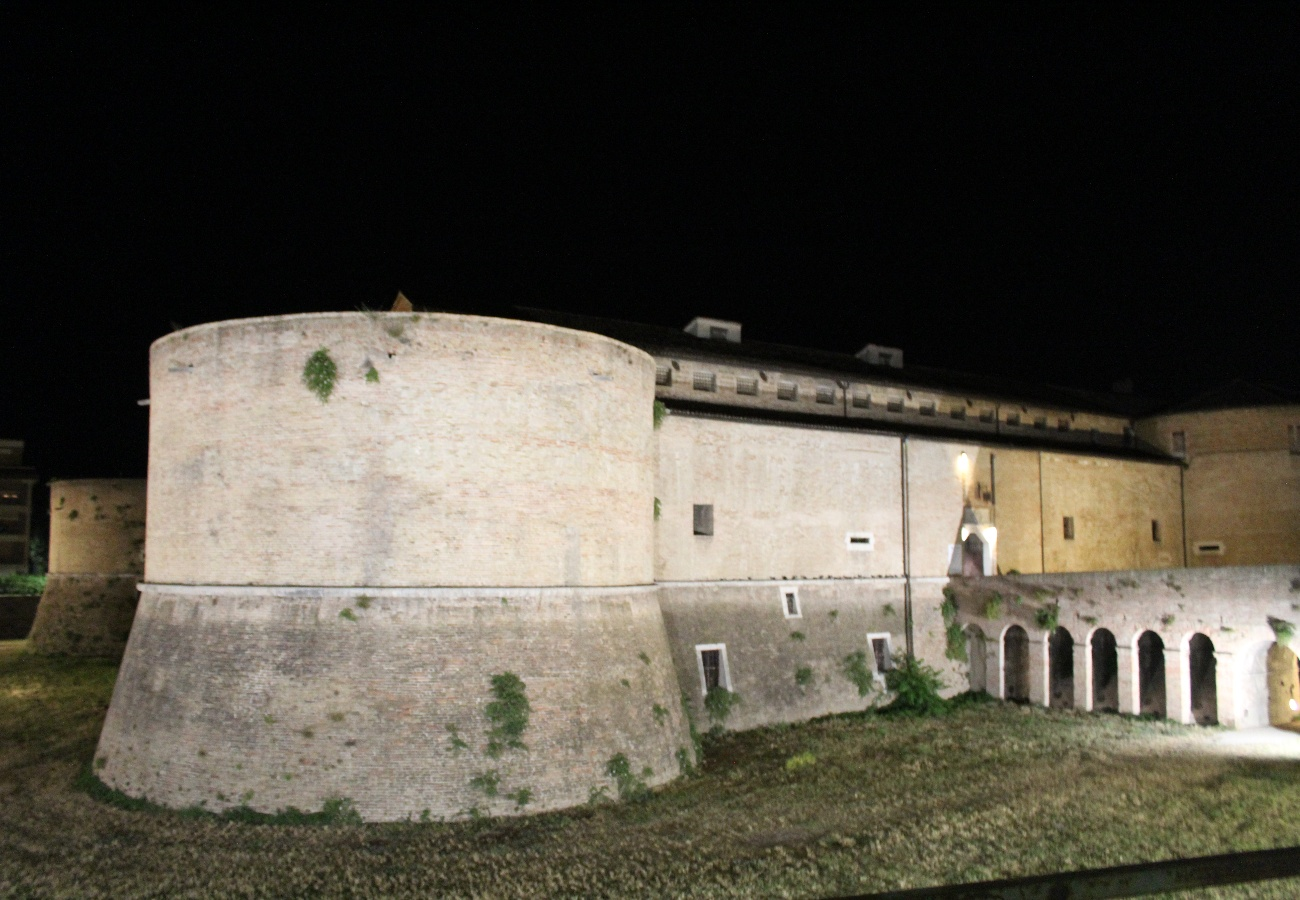Rocca Costanza: (52, 312, 1300, 825)
